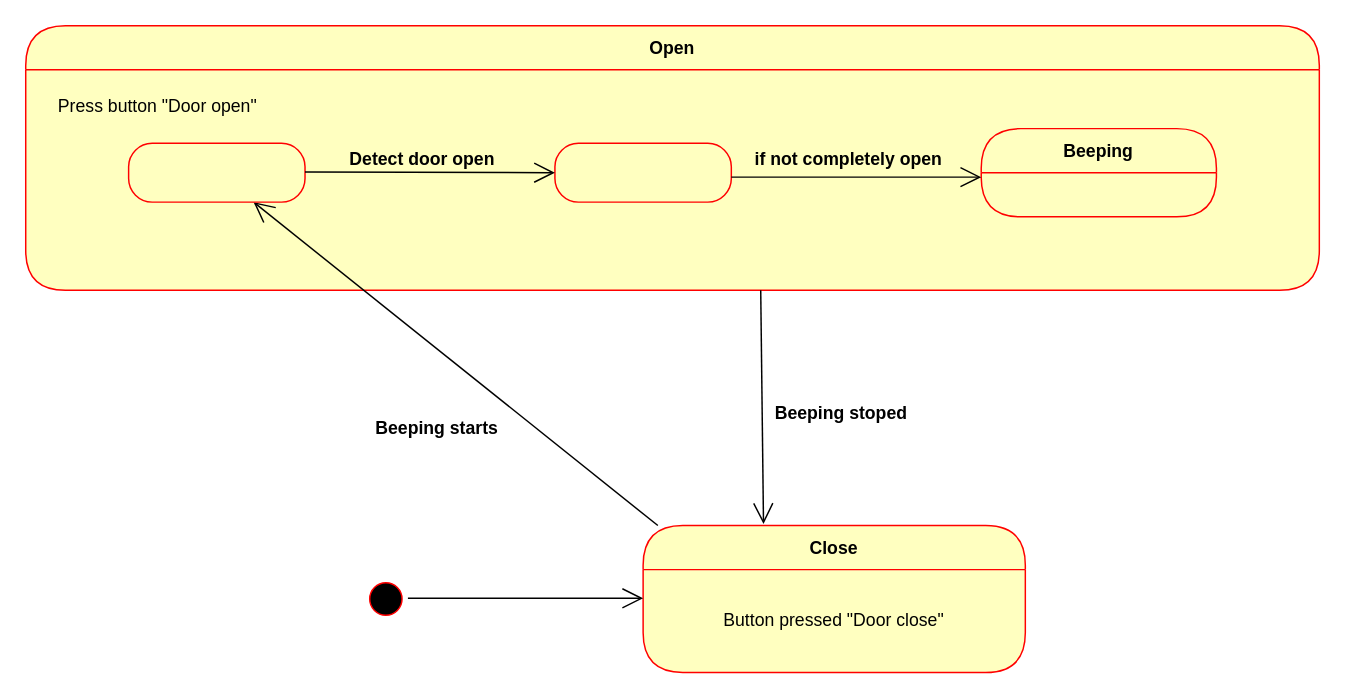
This 1345x698 diagram has some shape labels left out. Each missing label, with the box of its shape:
Door opening: (553, 142, 731, 202)
Sensing: (127, 142, 305, 202)
